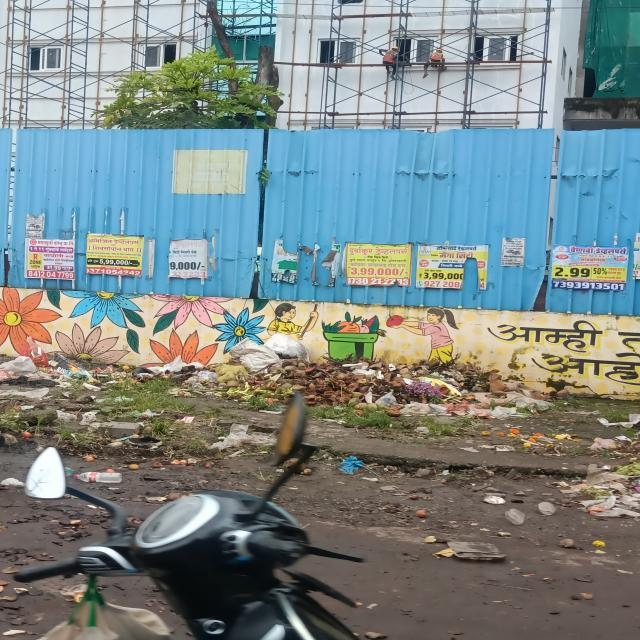garbage: (203, 348, 550, 429), (2, 354, 232, 453)
